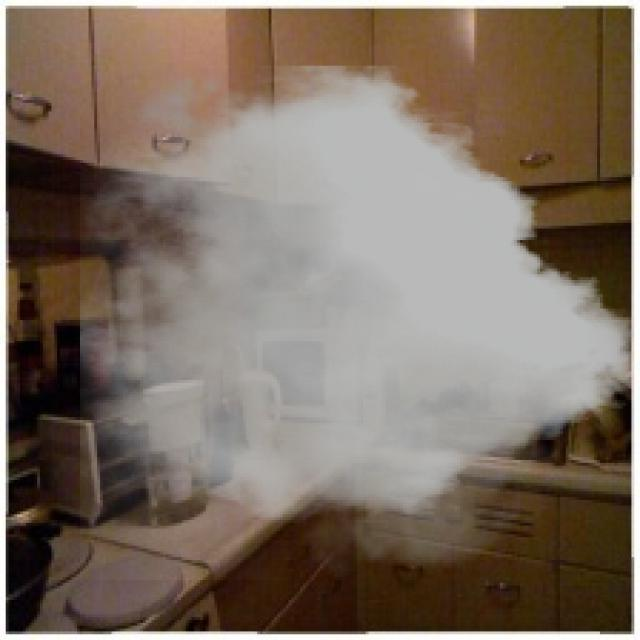Smoke: (80, 57, 634, 580)
